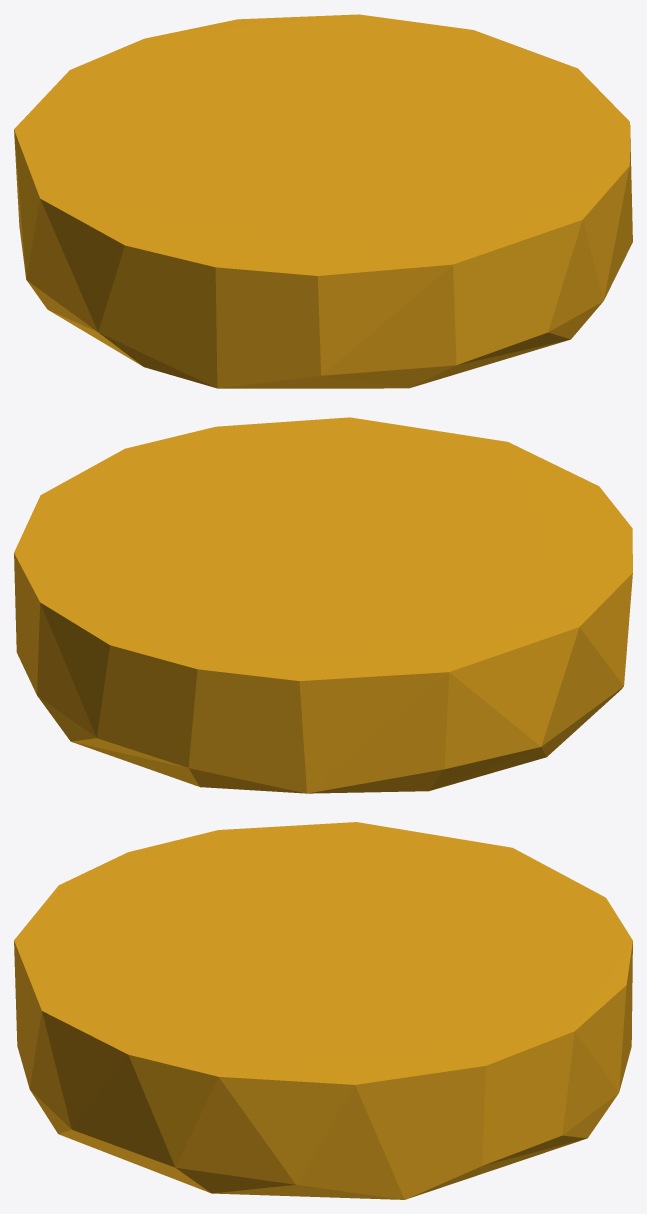
The model's file is F_BreadBottom.fbx.
3 renders of one model, top to bottom at view 1: azimuth 30°, elevation 25°; view 2: azimuth 150°, elevation 25°; view 3: azimuth 270°, elevation 25°, orthographic.
Visible parts, largest first — view 1: Cylinder; view 2: Cylinder; view 3: Cylinder.
Boxes of the visible parts, x1,y1,x2,y2 form: Cylinder: (14,14,632,388); Cylinder: (14,417,632,793); Cylinder: (14,822,632,1199).
Bounding box in the file's own units: 16.7 × 3.72 × 16.64.
